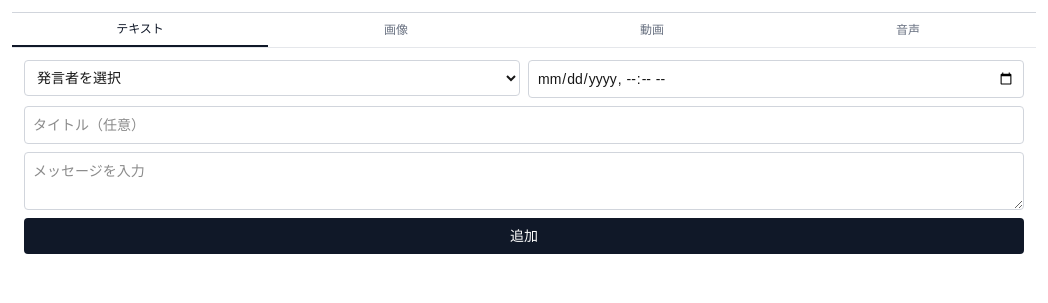
Test: ChatComposer › resets the pending-media checkbox when switching tabs
This screenshot has width=1048, height=303.
Click the button "動画".
click(652, 30)  # box x1=524 y1=13 x2=780 y2=47
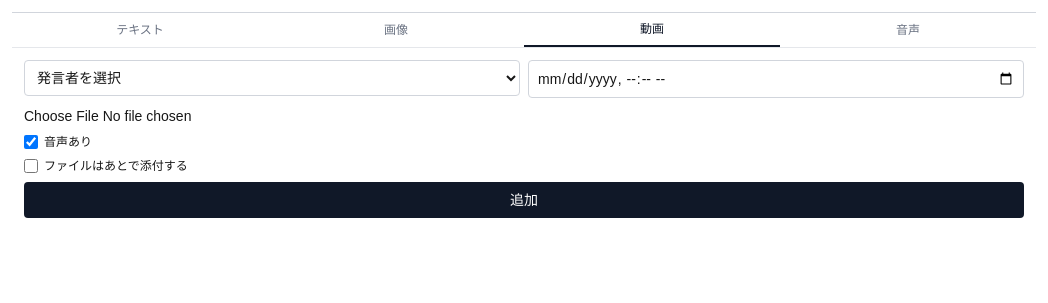
Click the checkbox labelled "ファイルはあとで添付する".
click(31, 166)  # box x1=24 y1=159 x2=38 y2=173
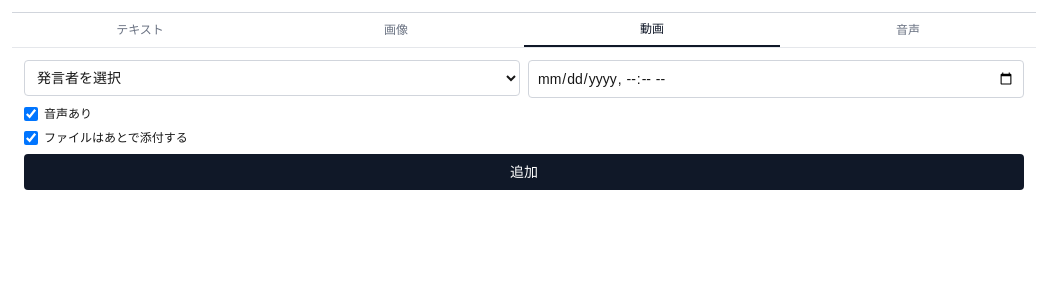
Click the button "画像".
click(396, 30)  # box x1=268 y1=13 x2=524 y2=47
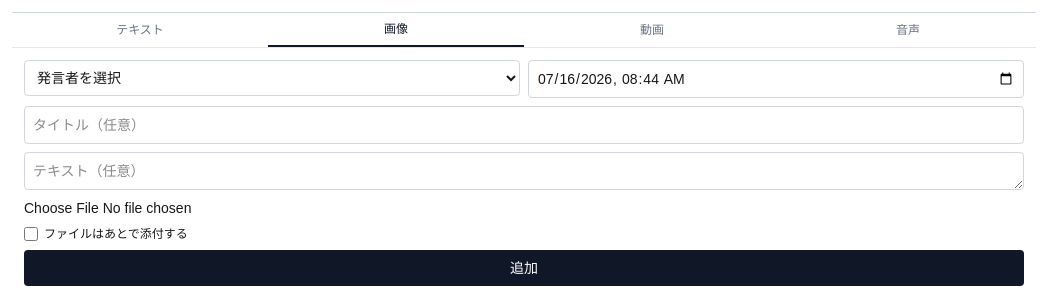
Expected: the checkbox labelled "ファイルはあとで添付する" is not checked, x1=24 y1=227 x2=38 y2=241
Expected: the file field named "画像ファイル" is shown, x1=24 y1=198 x2=1024 y2=218
